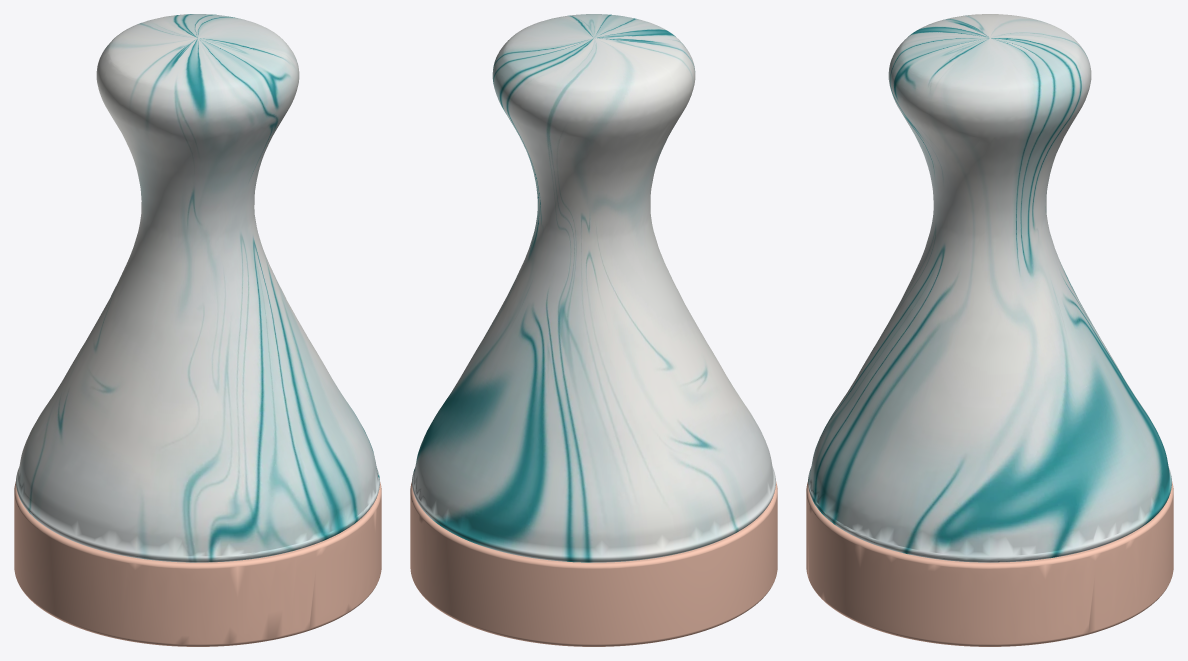
Rendered from pawn-white-hd.glb.
3 renders of one model, left to right at view 1: azimuth 30°, elevation 25°; view 2: azimuth 150°, elevation 25°; view 3: azimuth 270°, elevation 25°, orthographic.
Parts seen in each view (by area): view 1: pesec_bila; view 2: pesec_bila; view 3: pesec_bila.
Part boxes in pixels (bbox=[...]): pesec_bila: bbox=[14, 14, 381, 646]; pesec_bila: bbox=[410, 14, 777, 646]; pesec_bila: bbox=[806, 14, 1173, 646].
Bounding box in the file's own units: 0.6748 × 1.08 × 0.6748.
Materials: 2 (1 with a texture image).
